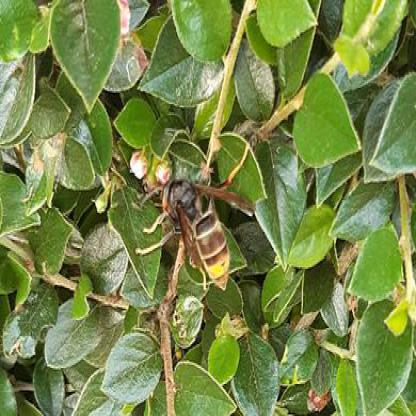Asian Hornet: (145, 158, 251, 310)
